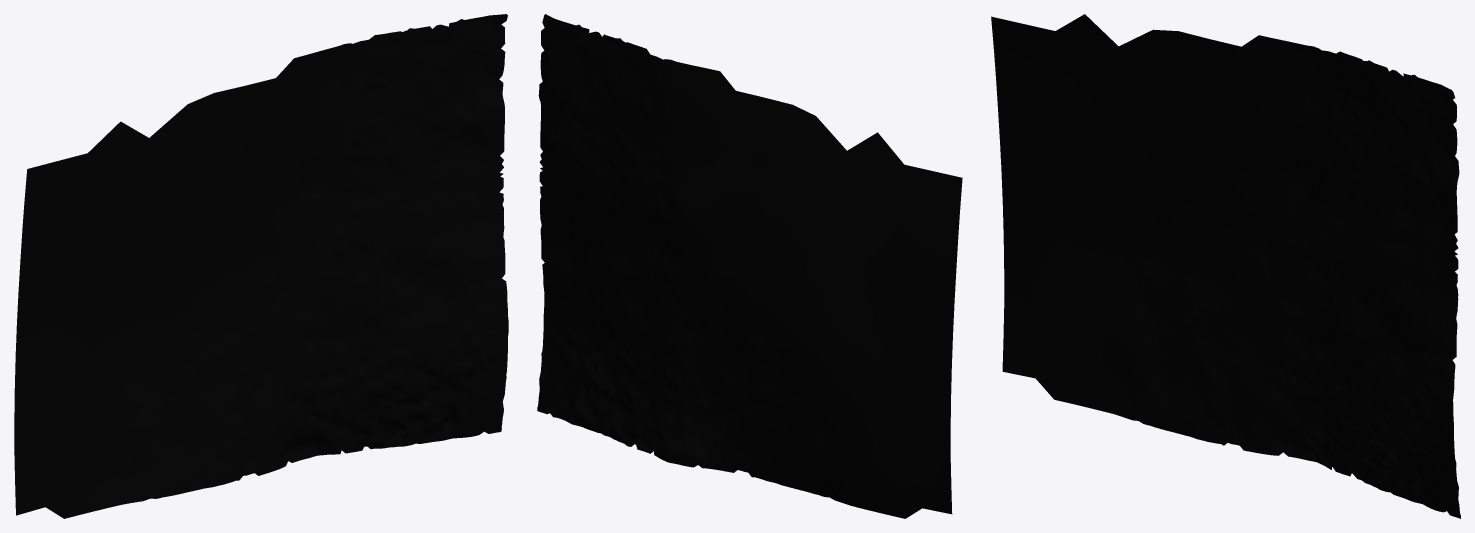
Rendered from tile_2.obj.
The picture shows the model from 3 angles, left to right: view 1: azimuth 30°, elevation 25°; view 2: azimuth 150°, elevation 25°; view 3: azimuth 330°, elevation 25°; orthographic projection. The views are drawn at different scales.
Bounding box in the file's own units: 1.95 × 1.7 × 0.2237.
1 material, 1 textured.
